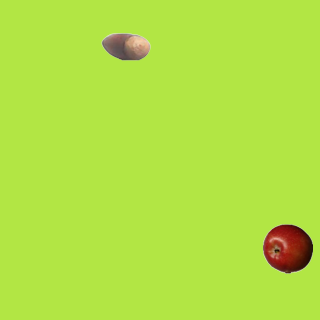Apple Braeburn: (262, 223, 312, 273)
Hazelnut: (100, 21, 150, 71)
